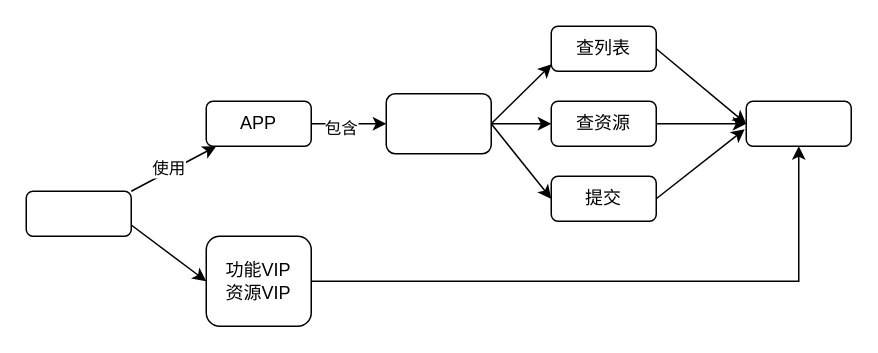
The diagram is 878 pixels wide and 353 high, and some of its shapes have lost their labels. Each missing label, with the centre of its shape:
"vip校验" goes at (798,123).
"功能模块 /资源" goes at (438,123).
"用户" goes at (78,213).
